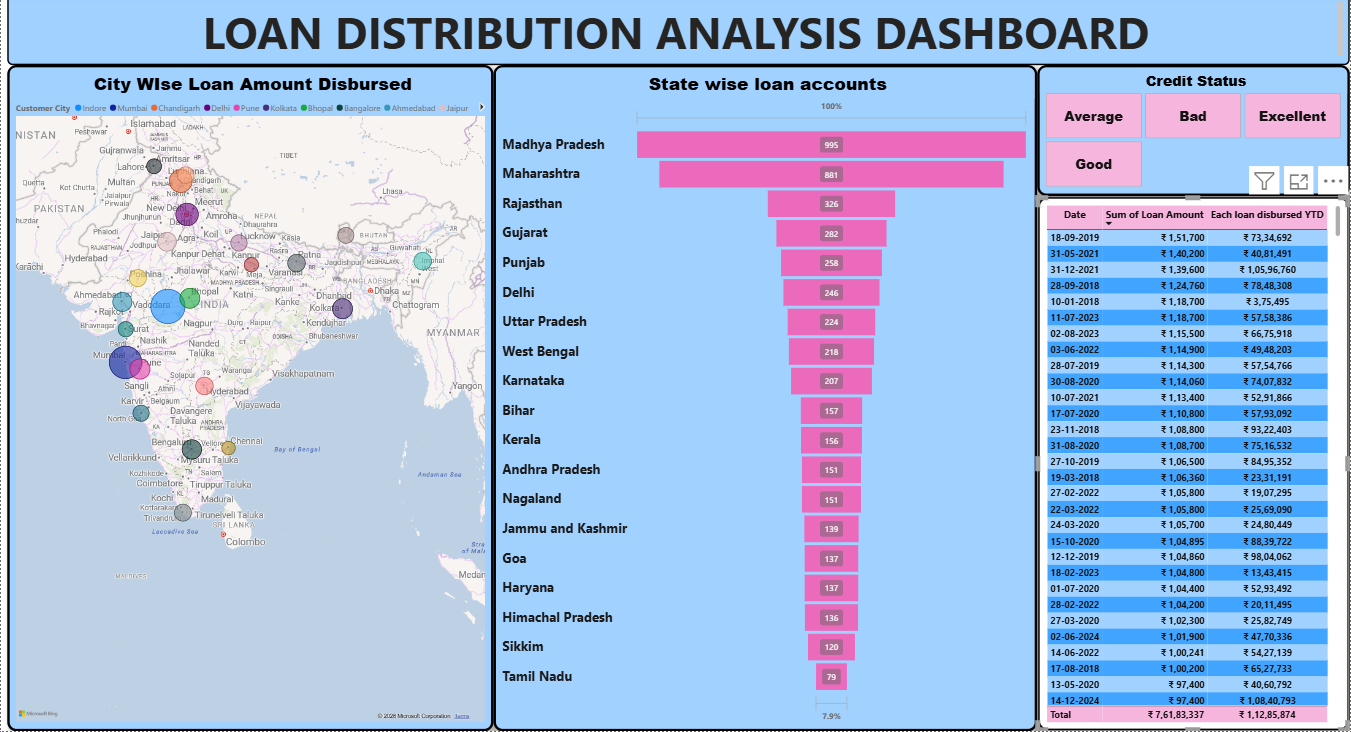

Layout of this report page (visuals, bound fields, positions):
{"tool":"powerbi","page":{"name":"Dash Board 2","canvas":[2200,1200],"ordinal":8},"visuals":[{"type":"textbox","box":[10.2,0,2188.9,114.1],"z":0},{"type":"tableEx","fields":{"Values":["CalendarTable.Date","Sum(finance_loan_default_dataset.Loan Amount)","CalendarTable.Each loan disbursed YTD"]},"box":[1689.5,328.1,509.5,872.3],"z":1000},{"type":"map","title":"City WIse Loan Amount Disbursed","fields":{"Size":["Sum(finance_loan_default_dataset.Loan Amount)"],"Category":["finance_loan_default_dataset.Customer City"],"Series":["finance_loan_default_dataset.Customer City"]},"box":[10.2,114.1,792.8,1086.3],"z":2000},{"type":"funnel","title":"State wise loan accounts ","fields":{"Y":["finance_loan_default_dataset.Number Of Customers"],"Category":["finance_loan_default_dataset.Customer State"]},"box":[803,114.1,886.6,1086.3],"z":3000},{"type":"advancedSlicerVisual","fields":{"Values":["finance_loan_default_dataset.Credit Status"]},"box":[1689.5,114.1,509.5,214],"z":4000}]}

Visuals, with their boxes in screenshot pixels (x1, y1, x2, y2), scaled from the page's 2200x1200 canvas onto the 1351x732 screenshot:
textbox: x1=6, y1=0, x2=1350, y2=70
tableEx - CalendarTable.Date x Sum(finance_loan_default_dataset.Loan Amount): x1=1038, y1=200, x2=1350, y2=731
"City WIse Loan Amount Disbursed" map: x1=6, y1=70, x2=493, y2=731
"State wise loan accounts " funnel: x1=493, y1=70, x2=1038, y2=731
advancedSlicerVisual - finance_loan_default_dataset.Credit Status: x1=1038, y1=70, x2=1350, y2=200
